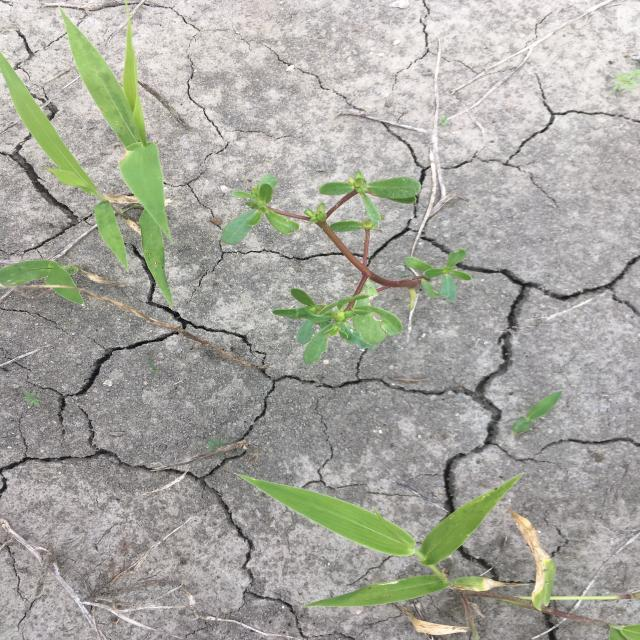Purslane: (218, 168, 474, 366)
